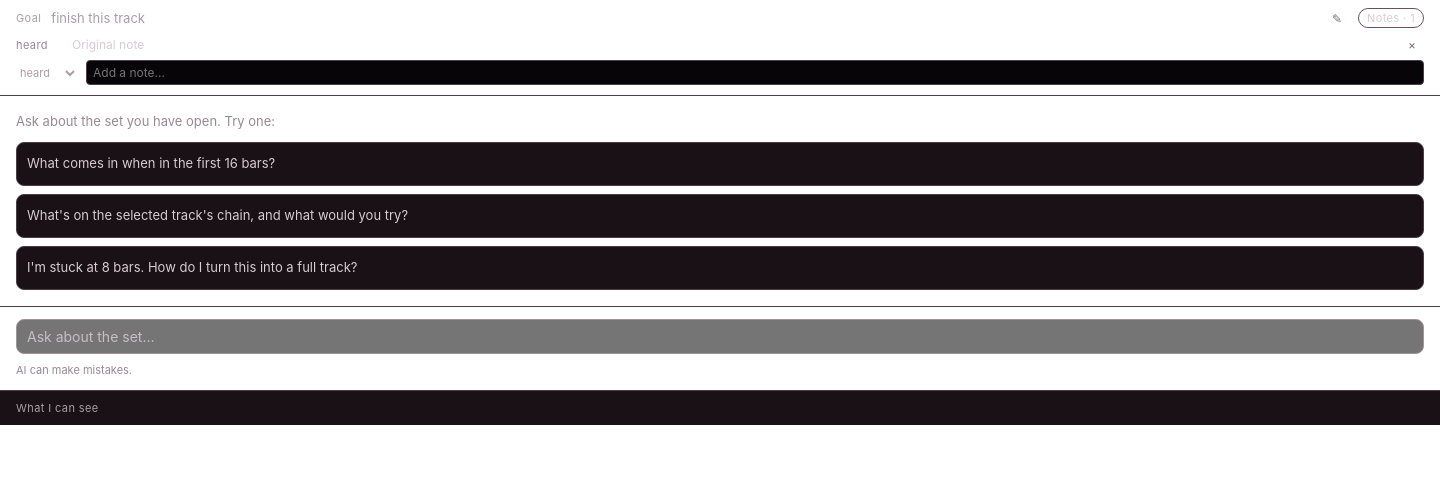
Test case: keeps a rejected note edit draft until installation fails and the producer retries
The width and height of the screenshot is (1440, 494).
Click the button "Original note".
click(108, 44)  # box [72, 36, 1392, 54]
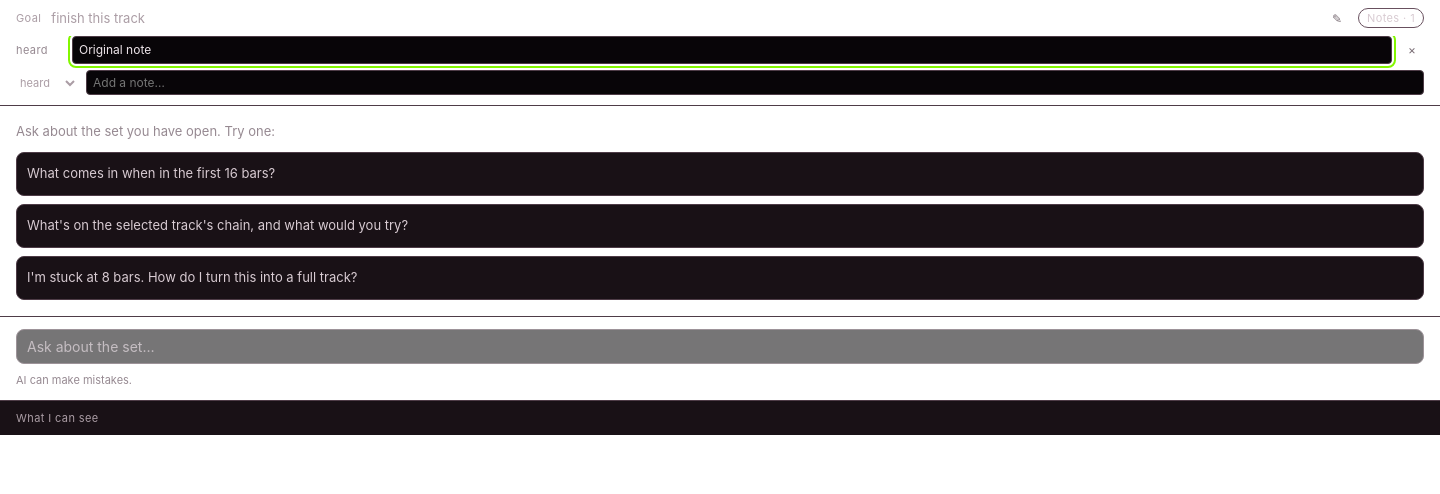
Replace the text in the field showing "Original note" with "Keep this draft" at [732, 50], box [72, 36, 1392, 64]
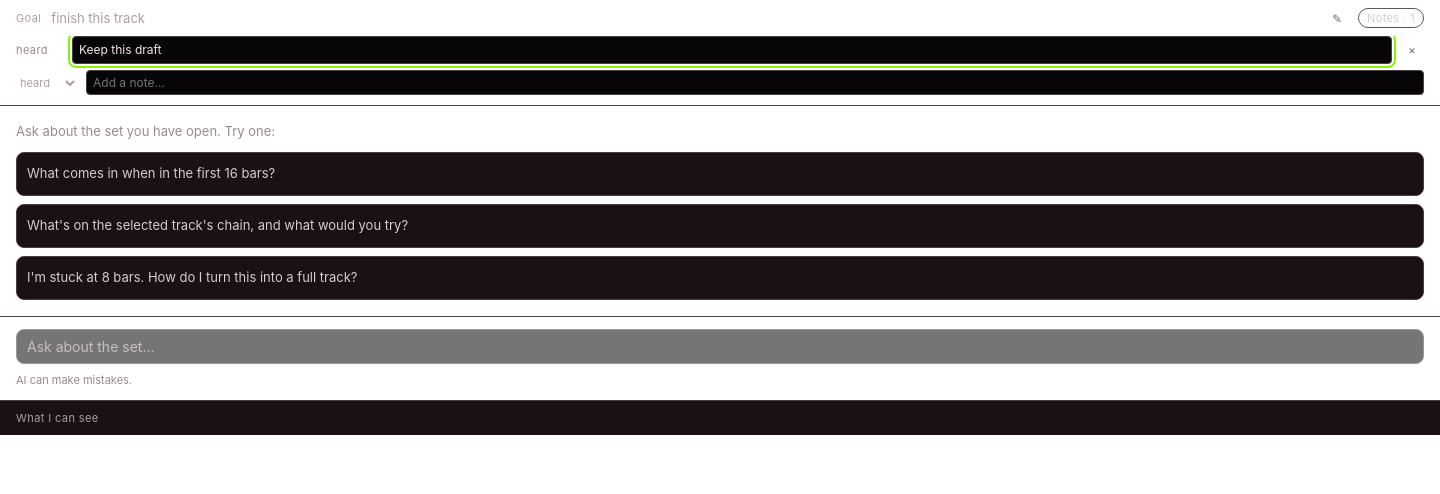
Press Enter in the field showing "Original note", box [72, 36, 1392, 64]
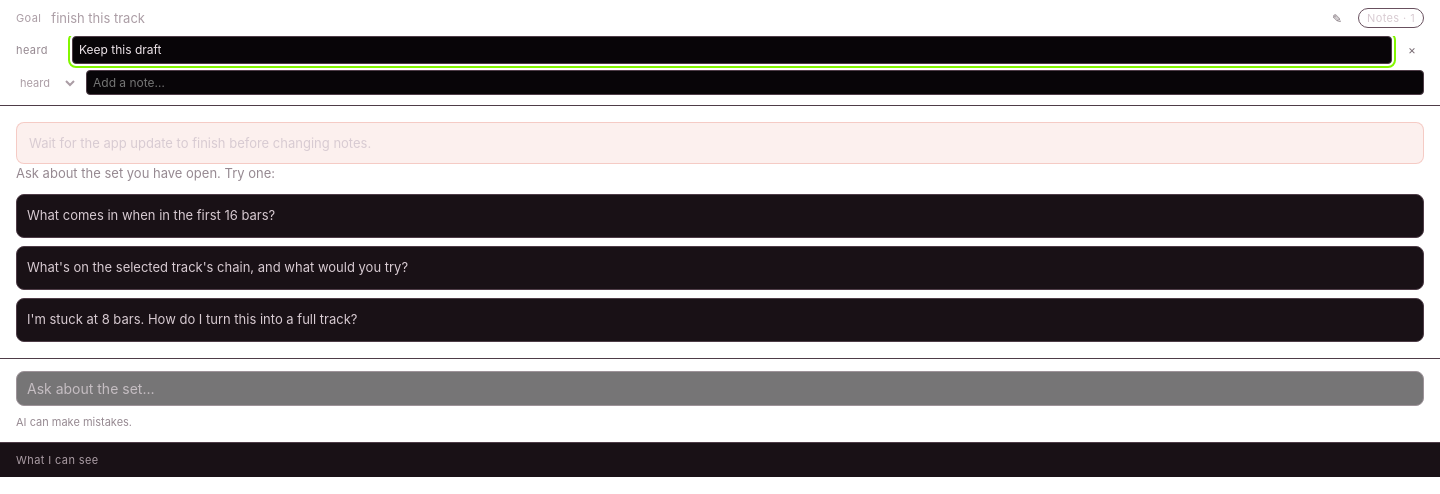
Press Enter in the field showing "Keep this draft", box [72, 36, 1392, 64]
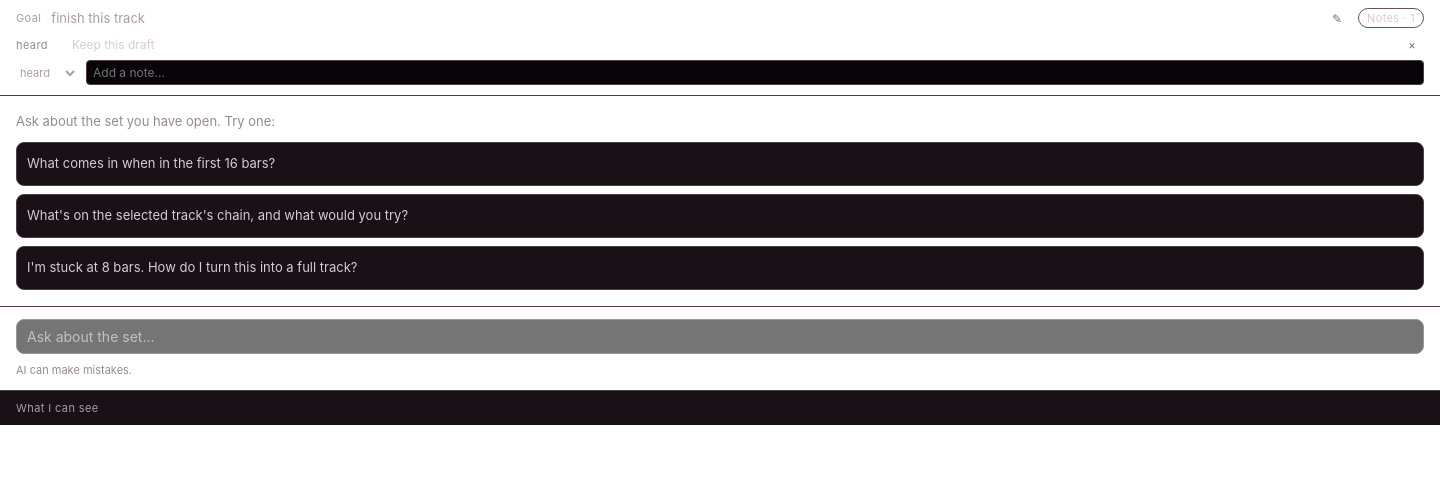
Now the button "Keep this draft" is shown, box [72, 36, 1392, 54]
